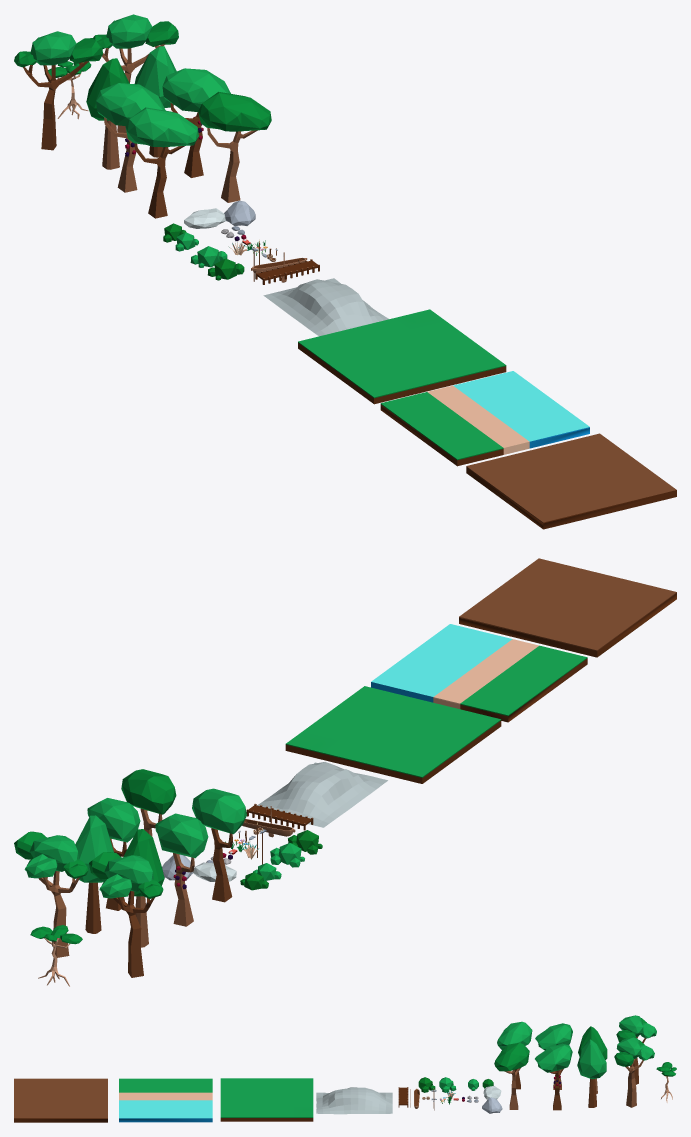
3 renders of one model, top to bottom at view 1: azimuth 30°, elevation 25°; view 2: azimuth 150°, elevation 25°; view 3: azimuth 270°, elevation 25°, orthographic. The views are drawn at different scales.
Parts seen in each view (by area): view 1: Mangue, Litoral, Solo_Gramado, Sambaqui, Arvore_Tres_Escura, Arvore_Um_Escura, Arvore_Um_Clara, Jabuticabeira_Clara, Jabuticabeira_Escura, Arvore_Tres_Clara, Arvore_Dois_Clara, Arvore_Dois_Escura; view 2: Mangue, Solo_Gramado, Litoral, Sambaqui, Arvore_Tres_Escura, Arvore_Tres_Clara, Arvore_Um_Escura, Jabuticabeira_Clara, Arvore_Um_Clara, Arvore_Dois_Escura, Jabuticabeira_Escura, Arvore_Dois_Clara (+2 smaller); view 3: Mangue, Litoral, Solo_Gramado, Sambaqui, Arvore_Tres_Clara, Jabuticabeira_Escura, Arvore_Dois_Escura, Arvore_Um_Clara, Arvore_Tres_Escura, Arvore_Um_Escura, Jabuticabeira_Clara, Arvore_Dois_Clara (+6 smaller).
Boxes of the visible parts, x1=… form: Mangue: x1=466, y1=433, x2=676, y2=529; Litoral: x1=380, y1=371, x2=589, y2=466; Solo_Gramado: x1=298, y1=309, x2=506, y2=404; Sambaqui: x1=263, y1=278, x2=388, y2=336; Arvore_Tres_Escura: x1=14, y1=31, x2=102, y2=150; Arvore_Um_Escura: x1=125, y1=107, x2=198, y2=218; Arvore_Um_Clara: x1=198, y1=91, x2=271, y2=202; Jabuticabeira_Clara: x1=96, y1=83, x2=165, y2=192; Jabuticabeira_Escura: x1=162, y1=68, x2=230, y2=177; Arvore_Tres_Clara: x1=93, y1=14, x2=178, y2=132; Arvore_Dois_Clara: x1=86, y1=58, x2=129, y2=169; Arvore_Dois_Escura: x1=134, y1=46, x2=176, y2=157; Mangue: x1=459, y1=558, x2=676, y2=657; Solo_Gramado: x1=285, y1=686, x2=501, y2=783; Litoral: x1=371, y1=624, x2=587, y2=722; Sambaqui: x1=257, y1=762, x2=387, y2=827; Arvore_Tres_Escura: x1=89, y1=852, x2=163, y2=977; Arvore_Tres_Clara: x1=14, y1=831, x2=88, y2=957; Arvore_Um_Escura: x1=192, y1=788, x2=246, y2=902; Jabuticabeira_Clara: x1=155, y1=813, x2=208, y2=926; Arvore_Um_Clara: x1=121, y1=769, x2=176, y2=836; Arvore_Dois_Escura: x1=75, y1=815, x2=113, y2=933; Jabuticabeira_Escura: x1=87, y1=798, x2=140, y2=910; Arvore_Dois_Clara: x1=123, y1=829, x2=164, y2=947; Mangue: x1=14, y1=1078, x2=107, y2=1122; Litoral: x1=119, y1=1078, x2=212, y2=1122; Solo_Gramado: x1=220, y1=1078, x2=313, y2=1121; Sambaqui: x1=316, y1=1087, x2=392, y2=1114; Arvore_Tres_Clara: x1=614, y1=1037, x2=654, y2=1107; Jabuticabeira_Escura: x1=535, y1=1043, x2=572, y2=1110; Arvore_Dois_Escura: x1=577, y1=1039, x2=606, y2=1107; Arvore_Um_Clara: x1=494, y1=1042, x2=529, y2=1109; Arvore_Tres_Escura: x1=616, y1=1015, x2=656, y2=1084; Arvore_Um_Escura: x1=497, y1=1021, x2=532, y2=1089; Jabuticabeira_Clara: x1=535, y1=1023, x2=572, y2=1089; Arvore_Dois_Clara: x1=578, y1=1026, x2=607, y2=1093.
Bounding box in the file's own units: 13.71 × 11.75 × 85.63.
1 material, 1 textured.
